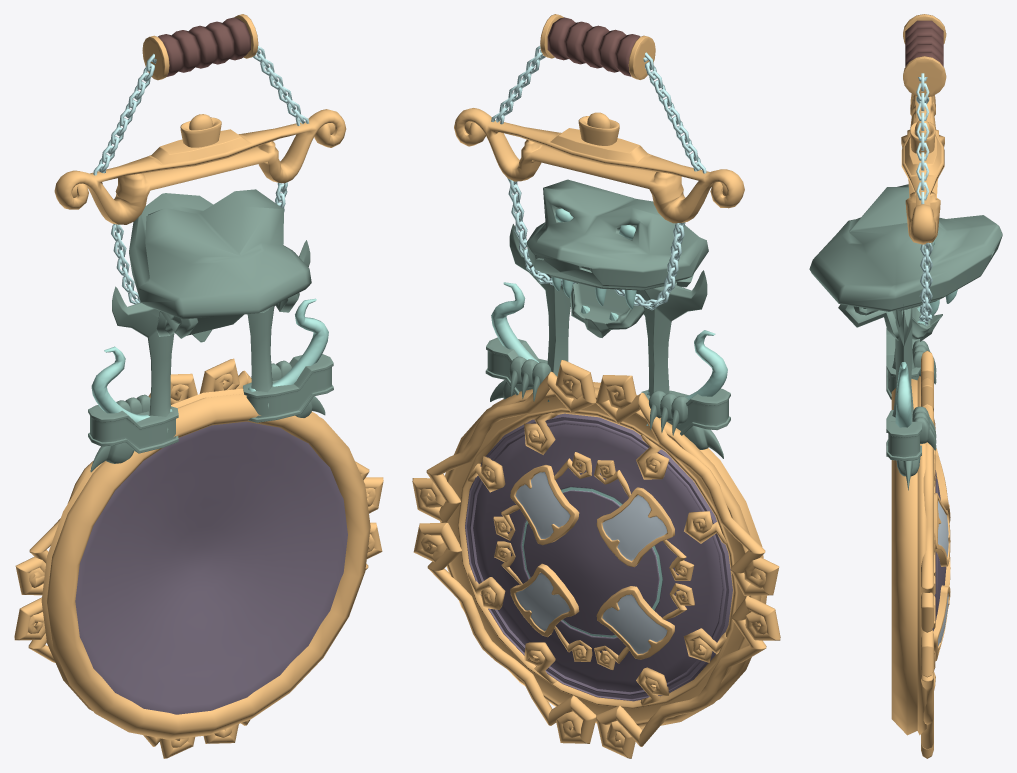
Rendered from Heavens_Gate_Model_03.fbx.
3 views of the same model, side by side, from view 1: azimuth 30°, elevation 25°; view 2: azimuth 150°, elevation 25°; view 3: azimuth 270°, elevation 25° (orthographic). The views are drawn at different scales.
Parts seen in each view (by area): view 1: polySurface348; view 2: polySurface348; view 3: polySurface348.
Boxes of the visible parts, x1=… form: polySurface348: x1=14, y1=14, x2=383, y2=758; polySurface348: x1=412, y1=14, x2=780, y2=758; polySurface348: x1=809, y1=14, x2=1002, y2=758.
Size of the model in its own units: 5.73 by 10.78 by 2.67.
